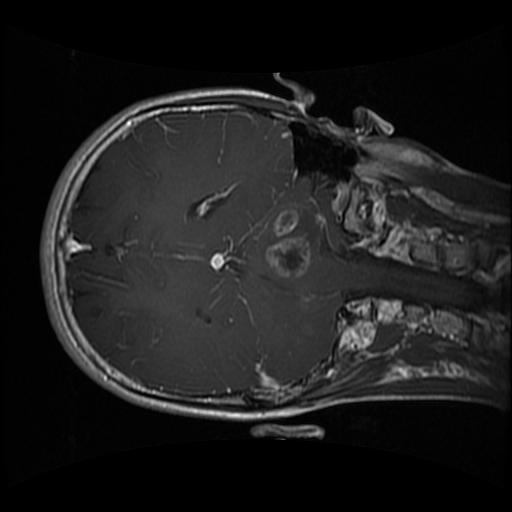glioma: (259, 201, 313, 281)
